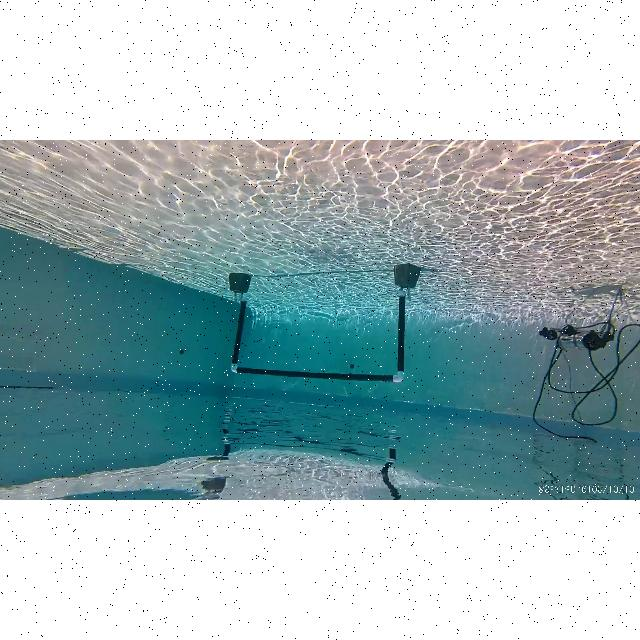prequal gate: (231, 292, 405, 382)
prequal gate leg l: (385, 263, 421, 383)
prequal gate leg r: (223, 268, 254, 378)
